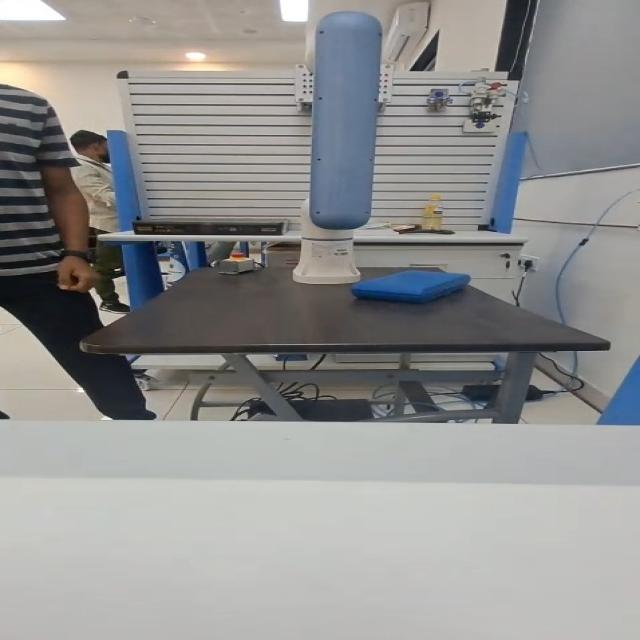top-surface: (373, 274, 452, 287)
